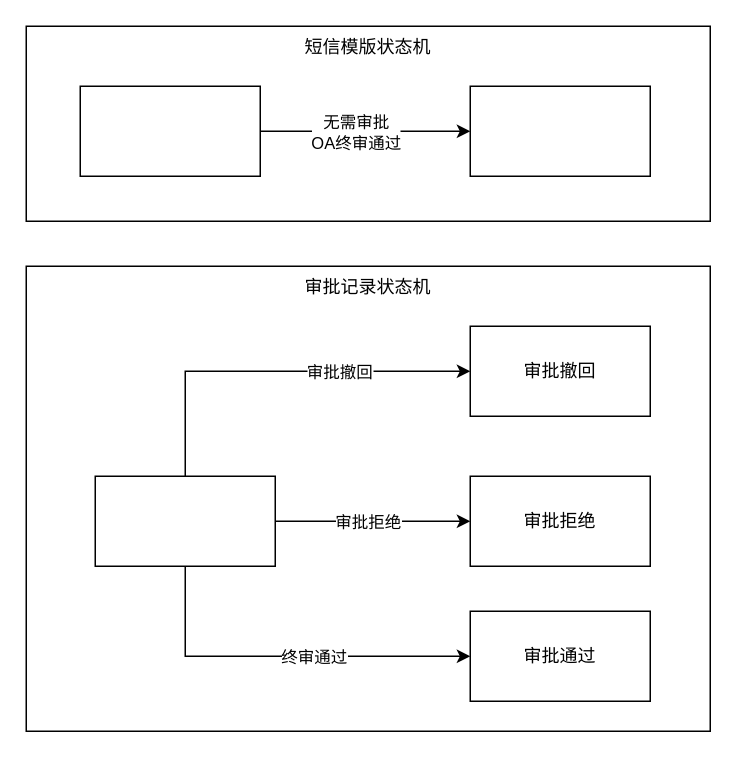
This 737x758 diagram has some shape labels left out. Each missing label, with the centre of its shape:
"审批中" goes at (x=184, y=520).
"已生效" goes at (x=559, y=130).
"未生效" goes at (x=169, y=130).
